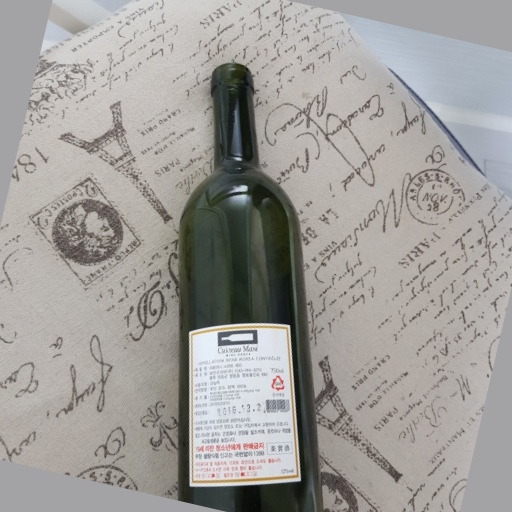Glass_2: (176, 64, 325, 512)
